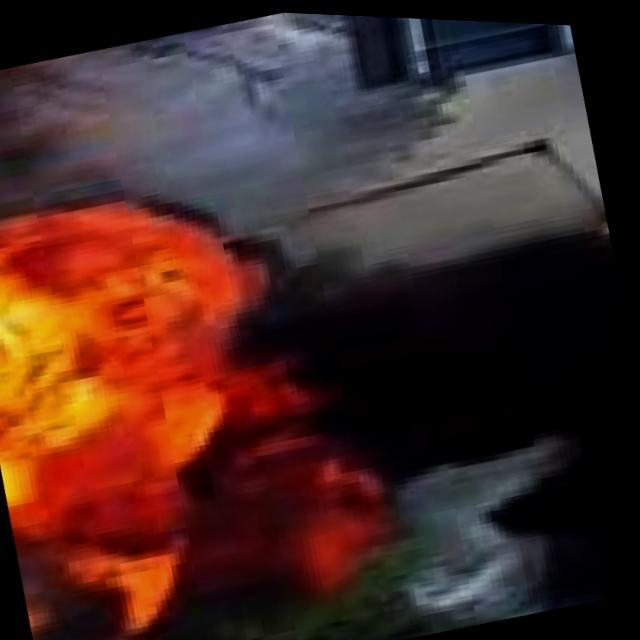fire: (0, 154, 337, 640)
